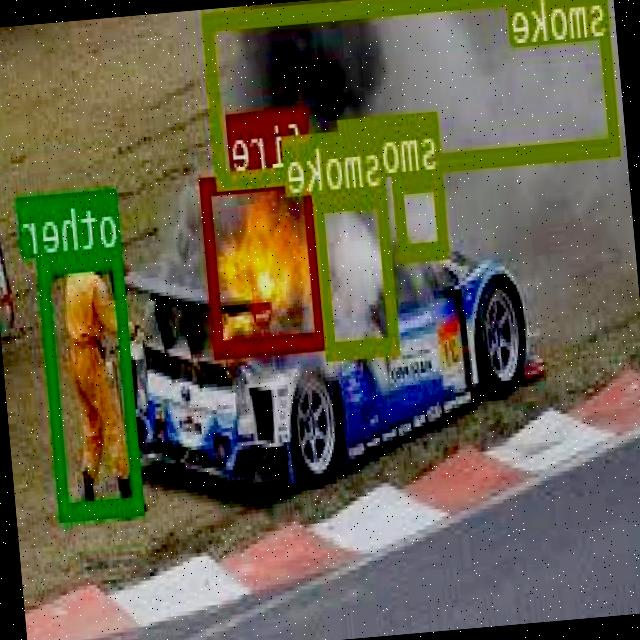fire: (200, 165, 328, 352)
smoke: (203, 0, 622, 186), (314, 186, 401, 356), (394, 168, 449, 258)
